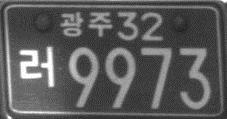2: (140, 10, 164, 42)
3: (176, 45, 212, 111), (115, 9, 139, 41)
7: (140, 45, 173, 111)
9: (104, 46, 136, 108), (68, 46, 98, 110)
광주_O: (58, 9, 112, 37)
러: (16, 45, 57, 90)
